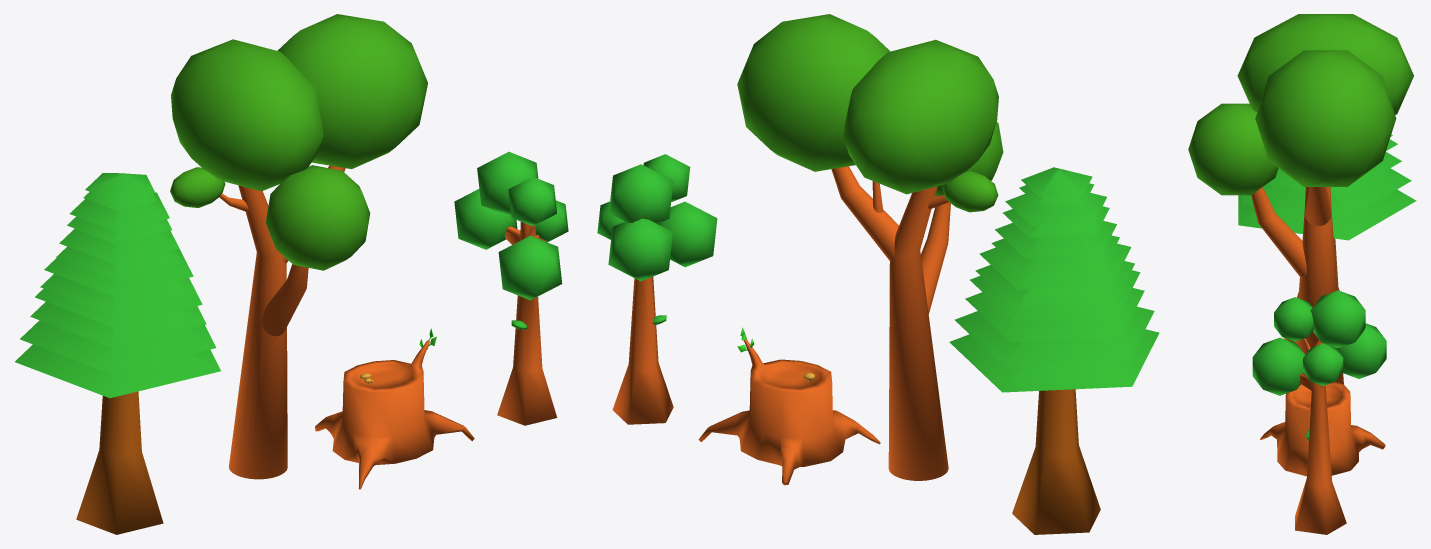
Rendered from pohon.gltf.
The picture shows the model from 3 angles, left to right: view 1: azimuth 30°, elevation 25°; view 2: azimuth 150°, elevation 25°; view 3: azimuth 270°, elevation 25°; orthographic projection. The views are drawn at different scales.
Visible parts, largest first — view 1: daun, Icosphere, Icosphere.001, Cylinder, Cube, Icosphere.002, pohon, pohon.001, Icosphere.005, Icosphere.006, Icosphere.004, Icosphere.007 (+2 smaller); view 2: daun, Icosphere, Cylinder, Icosphere.001, Cube, pohon, pohon.001, Icosphere.004, Icosphere.006, Icosphere.005, Icosphere.003, Icosphere.007 (+1 smaller); view 3: Icosphere.001, Icosphere, daun, Icosphere.002, Cylinder, Cube, pohon.001, Icosphere.006, Icosphere.005, Icosphere.004, Icosphere.007, Icosphere.008.
Part boxes in pixels (x1=…): daun: x1=15, y1=173, x2=220, y2=398; Icosphere: x1=171, y1=39, x2=323, y2=191; Icosphere.001: x1=277, y1=14, x2=427, y2=168; Cylinder: x1=219, y1=165, x2=345, y2=479; Cube: x1=315, y1=328, x2=474, y2=489; Icosphere.002: x1=265, y1=165, x2=370, y2=270; pohon: x1=76, y1=391, x2=163, y2=534; pohon.001: x1=497, y1=222, x2=557, y2=425; Icosphere.005: x1=498, y1=235, x2=562, y2=300; Icosphere.006: x1=477, y1=151, x2=538, y2=215; Icosphere.004: x1=454, y1=189, x2=517, y2=249; Icosphere.007: x1=508, y1=176, x2=557, y2=226; daun: x1=949, y1=167, x2=1159, y2=392; Icosphere: x1=843, y1=39, x2=998, y2=194; Cylinder: x1=831, y1=166, x2=950, y2=480; Icosphere.001: x1=737, y1=14, x2=890, y2=171; Cube: x1=698, y1=327, x2=880, y2=485; pohon: x1=1012, y1=389, x2=1100, y2=534; pohon.001: x1=612, y1=276, x2=673, y2=424; Icosphere.004: x1=608, y1=218, x2=672, y2=281; Icosphere.006: x1=609, y1=164, x2=673, y2=223; Icosphere.005: x1=657, y1=201, x2=717, y2=267; Icosphere.003: x1=942, y1=171, x2=998, y2=212; Icosphere.007: x1=643, y1=154, x2=690, y2=201; Icosphere.001: x1=1255, y1=50, x2=1396, y2=186; Icosphere: x1=1237, y1=14, x2=1413, y2=114; daun: x1=1238, y1=134, x2=1416, y2=240; Icosphere.002: x1=1188, y1=103, x2=1278, y2=195; Cylinder: x1=1251, y1=187, x2=1343, y2=384; Cube: x1=1260, y1=382, x2=1385, y2=476; pohon.001: x1=1295, y1=338, x2=1346, y2=534; Icosphere.006: x1=1310, y1=290, x2=1365, y2=347; Icosphere.005: x1=1252, y1=337, x2=1304, y2=395; Icosphere.004: x1=1336, y1=323, x2=1386, y2=378; Icosphere.007: x1=1274, y1=297, x2=1313, y2=341; Icosphere.008: x1=1303, y1=343, x2=1343, y2=385.
Size of the model in its own units: 9.04 by 7.19 by 3.7.
